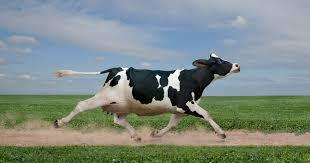cow: (53, 55, 241, 143)
